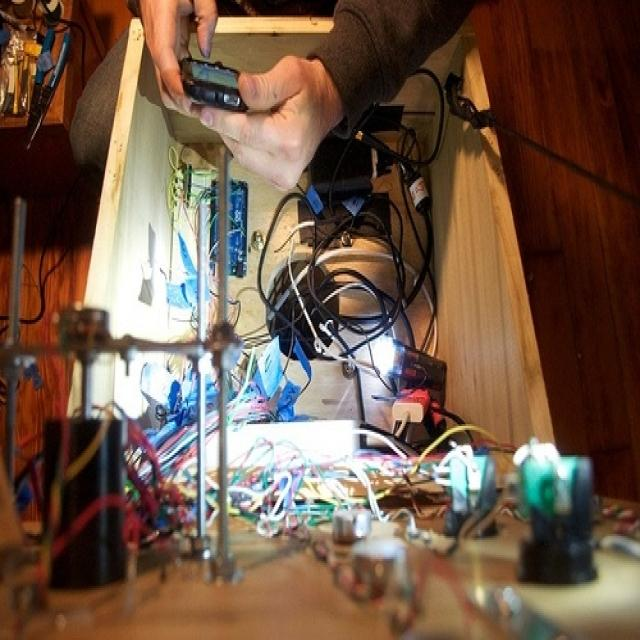E-waste: (15, 8, 604, 624)
